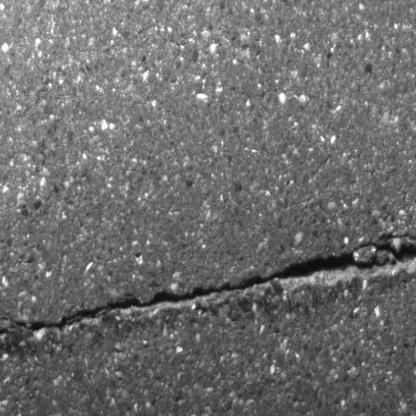Cracks: (0, 248, 416, 339)
